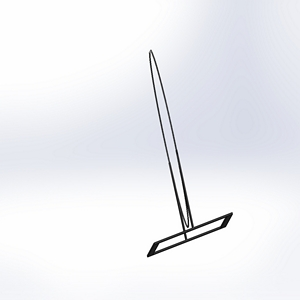circle: (142, 47, 234, 257)
